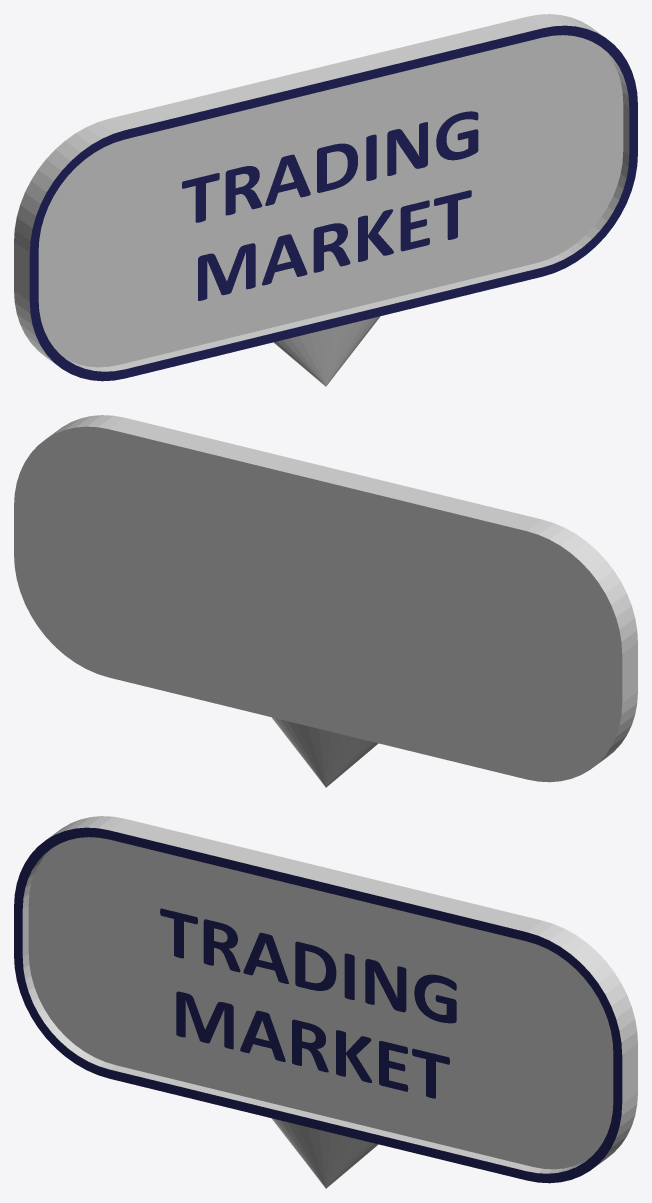
File: TradingMarketDefault.glb
3 renders of one model, top to bottom at view 1: azimuth 30°, elevation 25°; view 2: azimuth 150°, elevation 25°; view 3: azimuth 330°, elevation 25°, orthographic.
Parts seen in each view (by area): view 1: 立方体, 立方体.001, 文本, 立方体.002, 立方体.004; view 2: 立方体, 立方体.003, 立方体.002, 立方体.004; view 3: 立方体, 立方体.001, 文本, 立方体.002, 立方体.004.
Part boxes in pixels (x1,y1,x2,y2): 立方体: (38,35,629,371); 立方体.001: (29,25,637,381); 文本: (182,111,478,300); 立方体.002: (14,14,603,366); 立方体.004: (273,316,380,386); 立方体: (21,434,614,774); 立方体.003: (14,426,622,782); 立方体.002: (48,415,637,767); 立方体.004: (271,717,378,787); 立方体: (22,837,613,1173); 立方体.001: (14,827,622,1183); 文本: (160,908,456,1098); 立方体.002: (48,816,637,1168); 立方体.004: (271,1118,378,1188).
Bounding box in the file's own units: 5.13 × 2.52 × 0.2745.
